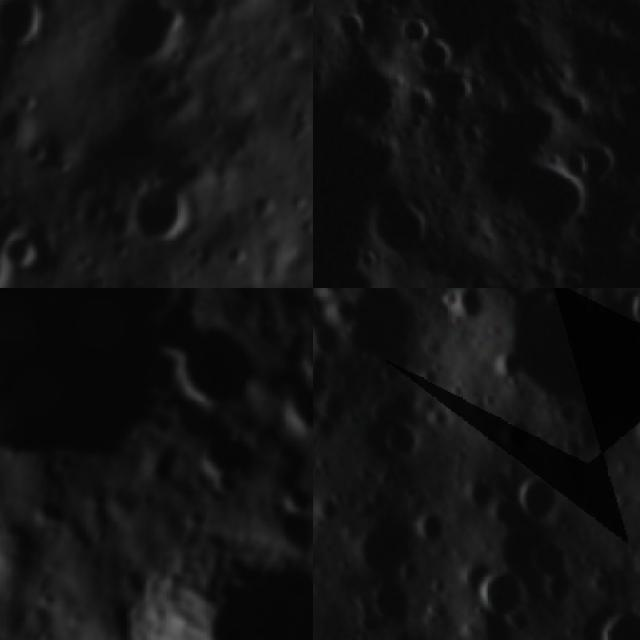crater: (0, 288, 217, 474), (119, 545, 313, 640), (331, 511, 439, 634), (492, 152, 591, 240), (170, 328, 266, 410), (105, 0, 196, 77), (358, 189, 443, 266), (129, 174, 204, 247), (518, 536, 583, 612), (398, 68, 489, 121), (468, 561, 528, 623), (146, 298, 205, 360), (153, 389, 220, 443), (510, 464, 565, 526), (190, 427, 256, 478), (368, 413, 428, 468), (401, 34, 463, 78), (272, 381, 313, 447), (579, 596, 640, 640), (0, 0, 50, 52), (491, 341, 535, 389), (263, 512, 310, 556), (0, 231, 48, 274), (432, 288, 487, 325), (390, 11, 434, 47), (30, 496, 76, 528), (278, 482, 313, 517), (623, 395, 640, 466), (621, 288, 640, 339), (298, 337, 313, 396), (278, 0, 313, 25), (313, 626, 370, 640), (125, 272, 161, 288), (71, 534, 96, 557)
